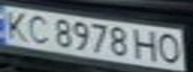7: (87, 21, 112, 55)
8: (48, 16, 75, 48), (109, 24, 133, 58)
9: (69, 19, 93, 52)
C: (21, 12, 54, 45)
H: (130, 28, 163, 62)
K: (0, 8, 33, 41)
O: (154, 32, 187, 65)
